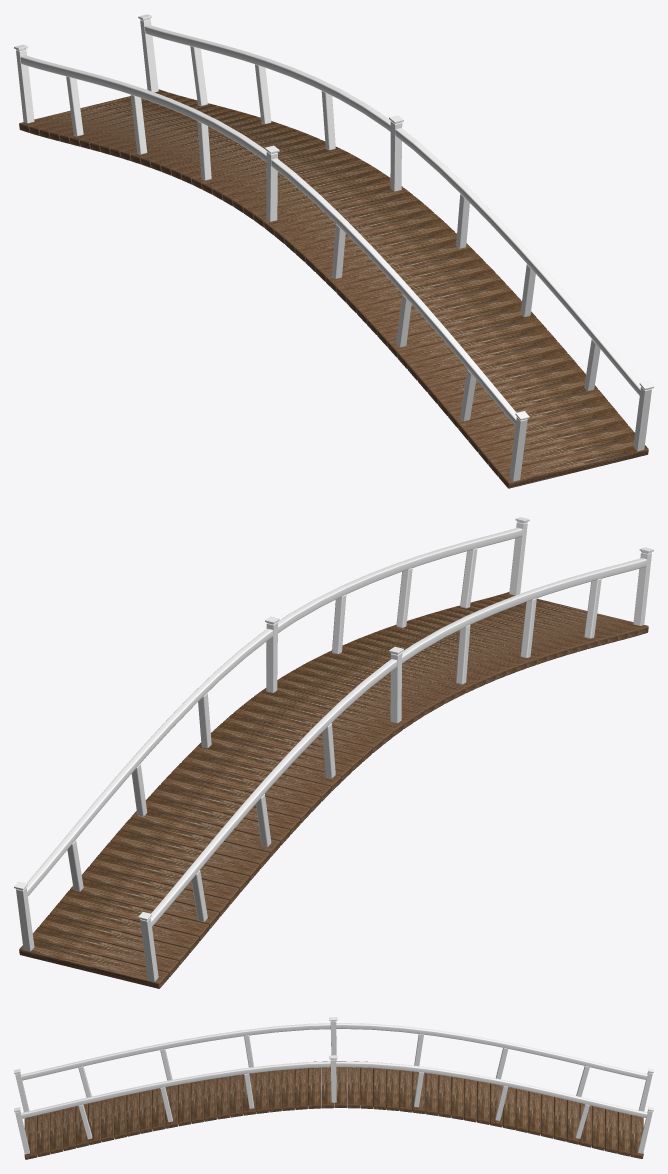
File: wukong-bridge-original.glb
3 renders of one model, top to bottom at view 1: azimuth 30°, elevation 25°; view 2: azimuth 150°, elevation 25°; view 3: azimuth 270°, elevation 25°, orthographic. The views are drawn at different scales.
Visible parts, largest first — view 1: Cube.025, Cube.023, Cube.024, Cube.022; view 2: Cube.025, Cube.023, Cube.024, Cube.022; view 3: Cube.025, Cube.023, Cube.024, Cube.022.
Boxes of the visible parts, box(x1,y1,x2,y2) form: Cube.025: box(19, 89, 648, 488); Cube.023: box(20, 25, 640, 425); Cube.024: box(66, 46, 600, 421); Cube.022: box(14, 14, 653, 481); Cube.025: box(19, 592, 648, 988); Cube.023: box(26, 527, 646, 926); Cube.024: box(67, 548, 601, 921); Cube.022: box(14, 517, 653, 981); Cube.025: box(24, 1061, 643, 1159); Cube.023: box(21, 1023, 647, 1118); Cube.024: box(78, 1034, 589, 1139); Cube.022: box(14, 1017, 653, 1154).
Bounding box in the file's own units: 1.6 × 1.74 × 10.01.
Materials: 2 (1 with a texture image).
